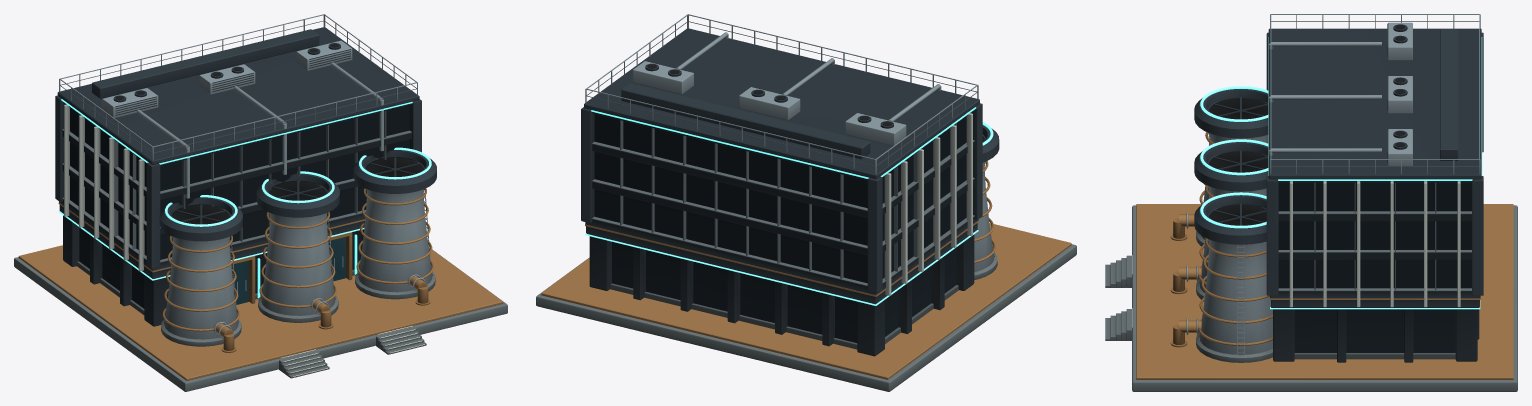
Rendered from compute-foundry.lod0.glb.
The picture shows the model from 3 angles, left to right: view 1: azimuth 30°, elevation 25°; view 2: azimuth 150°, elevation 25°; view 3: azimuth 270°, elevation 25°; orthographic projection. The views are drawn at different scales.
Parts seen in each view (by area): view 1: structure, lobby; view 2: structure, lobby; view 3: structure, lobby.
Boxes of the visible parts, x1=… form: structure: x1=14, y1=14, x2=507, y2=391; lobby: x1=79, y1=227, x2=362, y2=308; structure: x1=536, y1=14, x2=1076, y2=391; lobby: x1=612, y1=241, x2=956, y2=342; structure: x1=1105, y1=14, x2=1517, y2=391; lobby: x1=1294, y1=309, x2=1455, y2=352.
Size of the model in its own units: 25 by 14.37 by 24.61.
